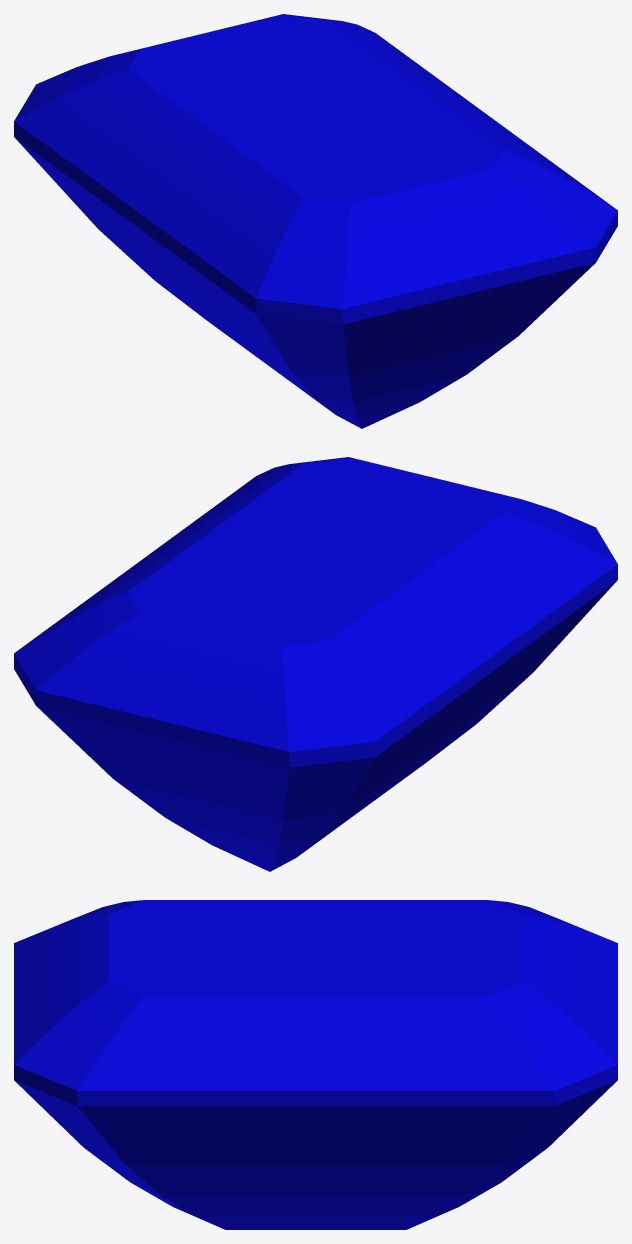
Rendered from Head_Hidden Halo_Emerald_0.75ct_Diamond.glb.
The picture shows the model from 3 angles, top to bottom: view 1: azimuth 30°, elevation 25°; view 2: azimuth 150°, elevation 25°; view 3: azimuth 270°, elevation 25°; orthographic projection.
Bounding box in the file's own units: 0.00421 × 0.00319 × 0.00619.
